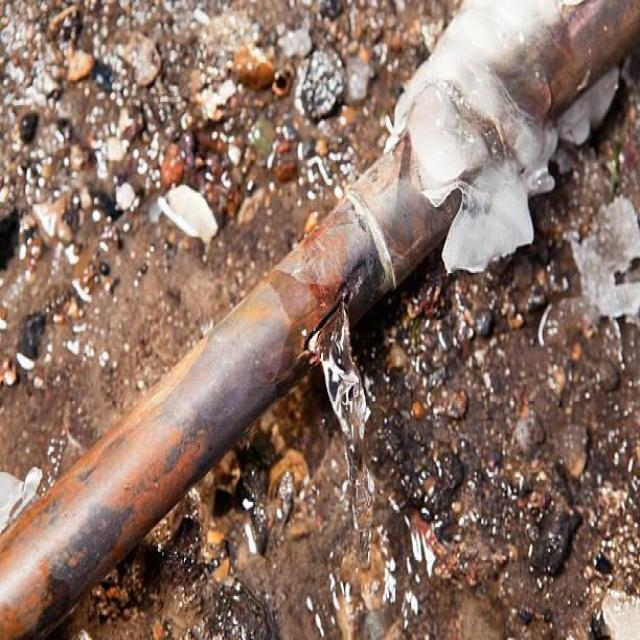rupture: (291, 278, 362, 363)
